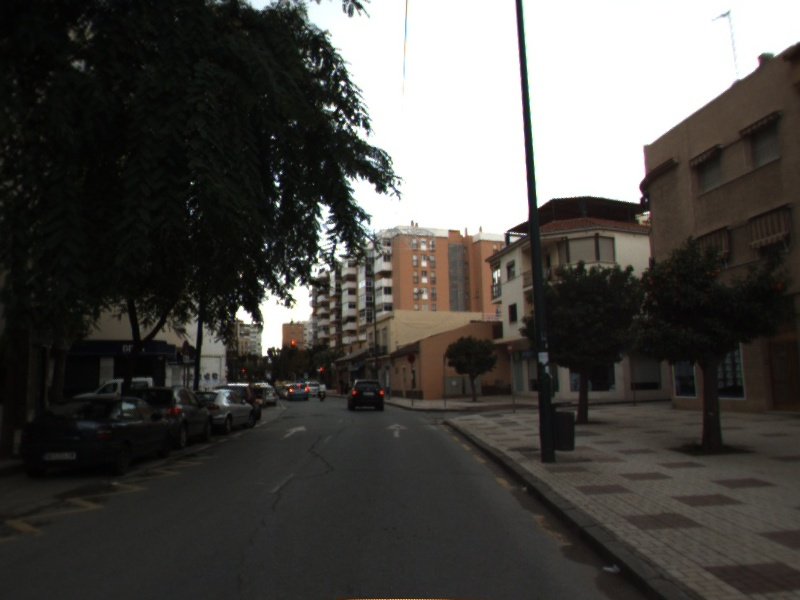STRAIGHT: (383, 421, 411, 439), (281, 424, 309, 440)
